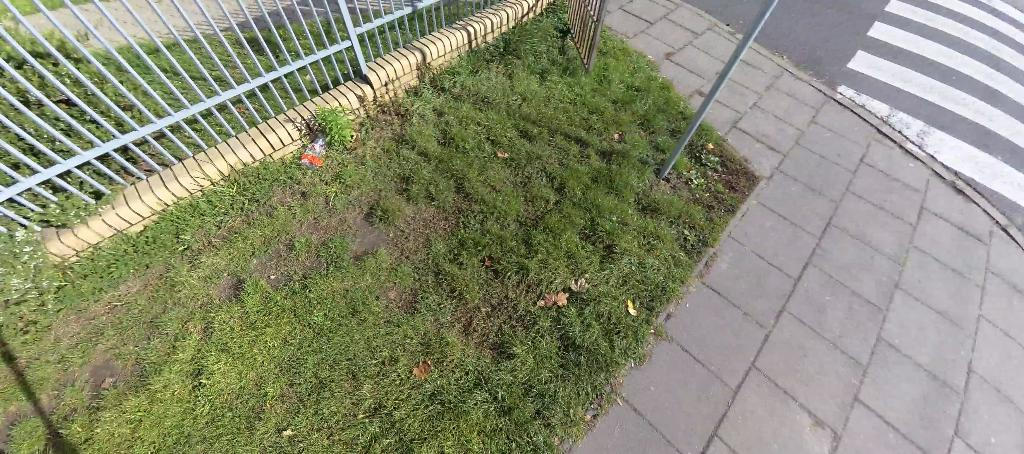garbage: (299, 137, 328, 167)
